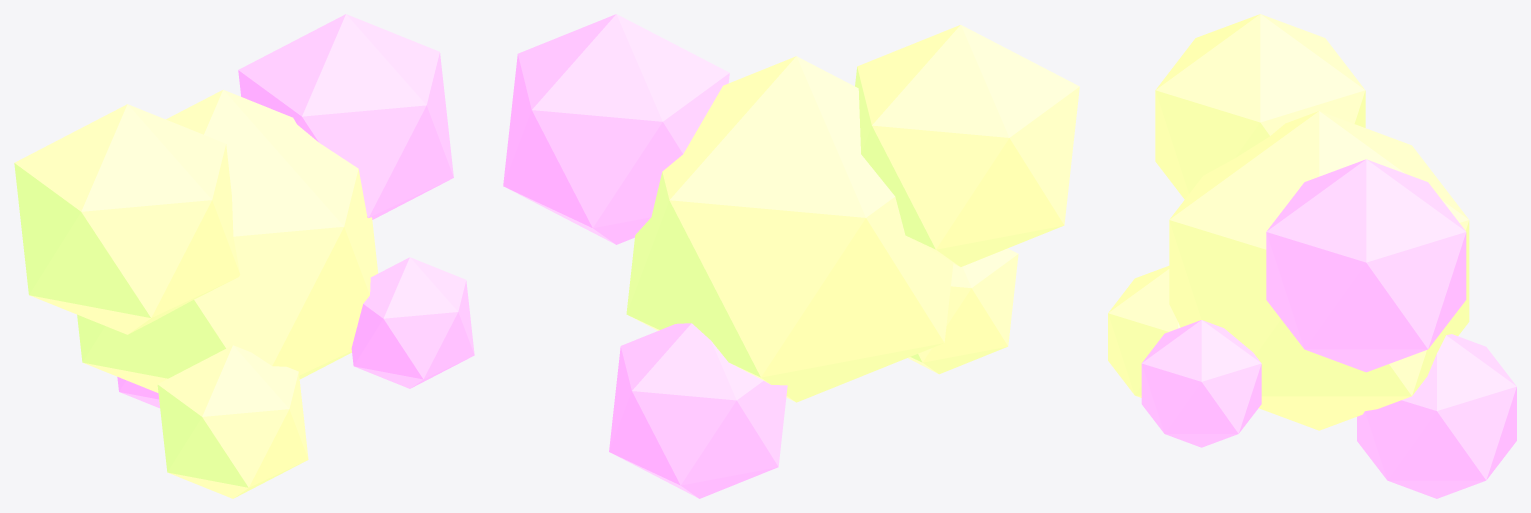
Rendered from plague_cloud.glb.
The picture shows the model from 3 angles, left to right: view 1: azimuth 30°, elevation 25°; view 2: azimuth 150°, elevation 25°; view 3: azimuth 270°, elevation 25°; orthographic projection. The views are drawn at different scales.
Visible parts, largest first — view 1: plague_cloud; view 2: plague_cloud; view 3: plague_cloud.
Boxes of the visible parts, x1,y1,x2,y2 form: plague_cloud: (14,14,474,498); plague_cloud: (503,14,1079,498); plague_cloud: (1108,14,1516,498).
Bounding box in the file's own units: 0.4434 × 0.385 × 0.3476.
